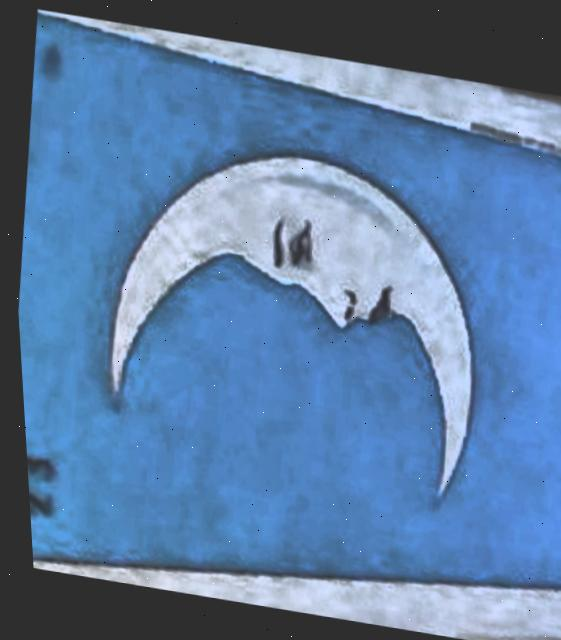La Luna: (14, 14, 561, 581)
